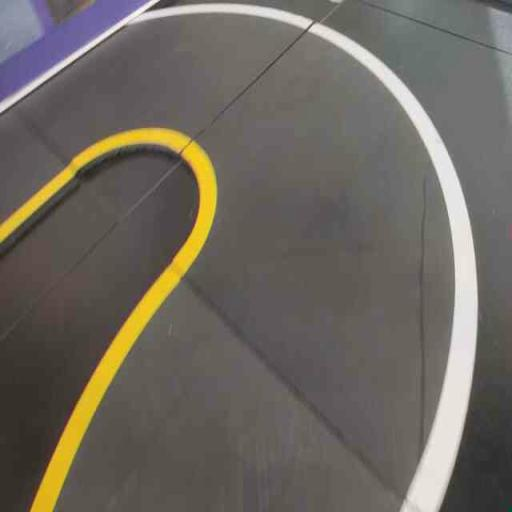left: (125, 20, 511, 511)
